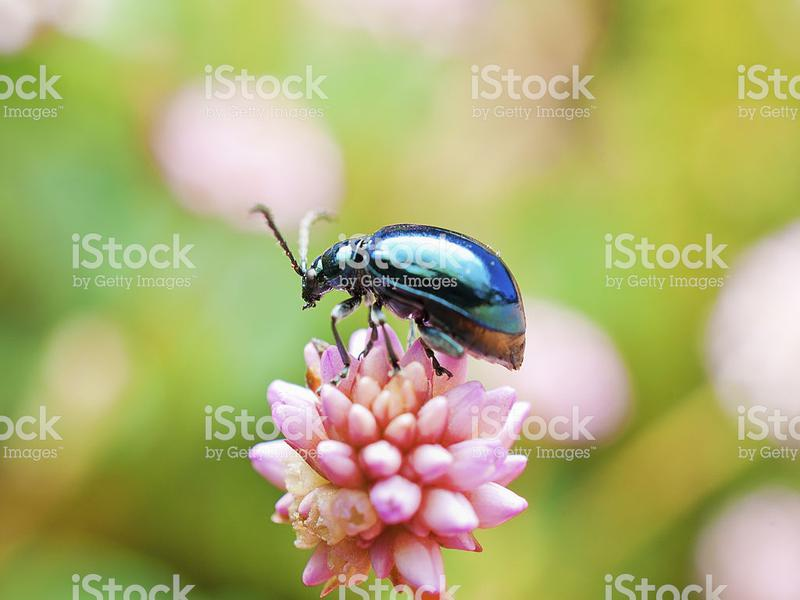Spiny_beetle: (237, 208, 536, 383)
